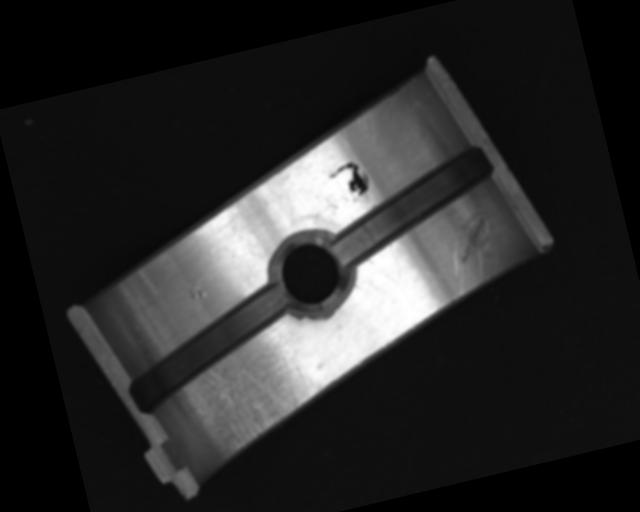blot: (326, 158, 373, 205)
bruise: (183, 279, 209, 302)
gap: (112, 279, 311, 417), (320, 140, 508, 265)
hole: (261, 227, 357, 319)
nick: (436, 205, 505, 297)
scratch: (170, 340, 331, 460)
